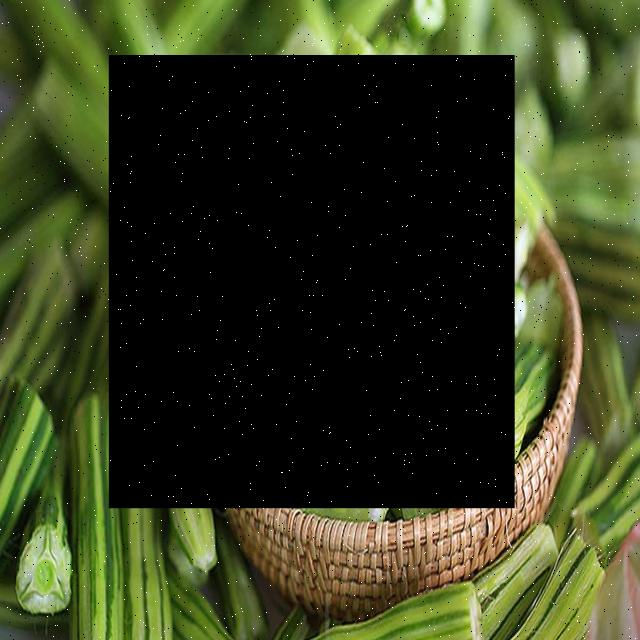Sajjyun: (110, 56, 516, 509)
